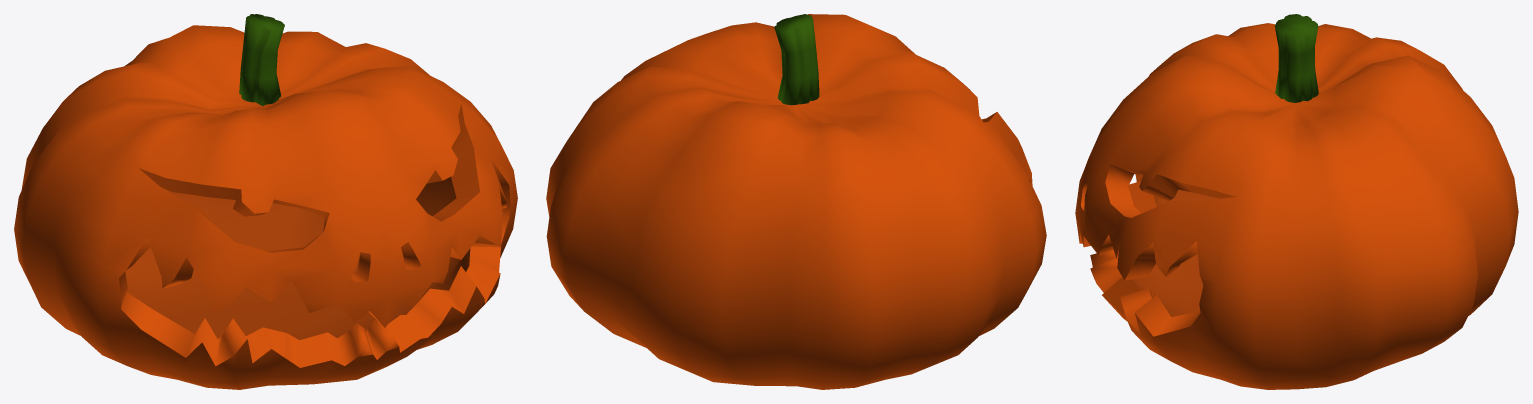
The model's file is Jack-o’-lantern_1_Wide.fbx.
3 views of the same model, side by side, from view 1: azimuth 30°, elevation 25°; view 2: azimuth 150°, elevation 25°; view 3: azimuth 270°, elevation 25° (orthographic). The views are drawn at different scales.
Parts seen in each view (by area): view 1: Jack-o’-lantern 1 Wide; view 2: Jack-o’-lantern 1 Wide; view 3: Jack-o’-lantern 1 Wide.
Boxes of the visible parts, bbox=[...] form: Jack-o’-lantern 1 Wide: bbox=[14, 14, 517, 389]; Jack-o’-lantern 1 Wide: bbox=[546, 14, 1046, 389]; Jack-o’-lantern 1 Wide: bbox=[1075, 14, 1518, 389].
Bounding box in the file's own units: 160 × 113 × 145.
